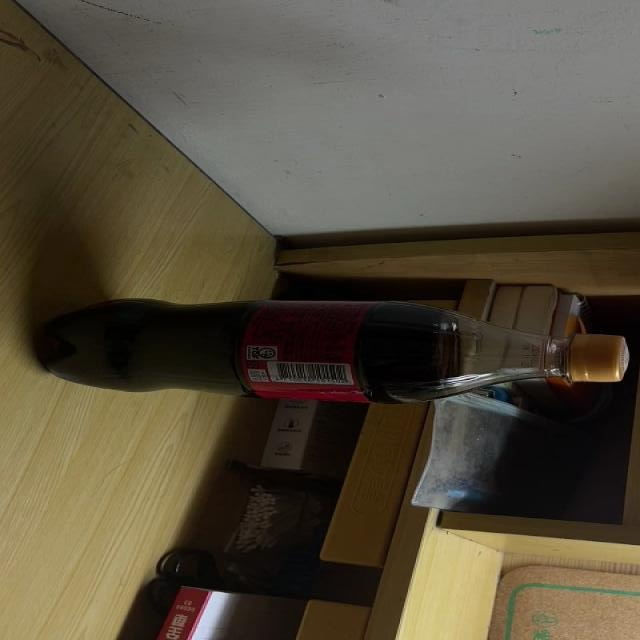Coca-Cola: (31, 295, 630, 404)
